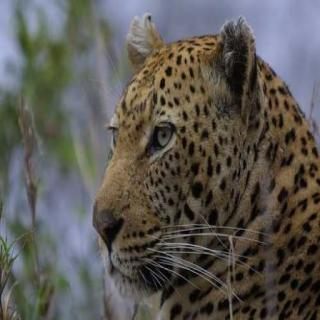Leopard: (55, 5, 320, 318)
